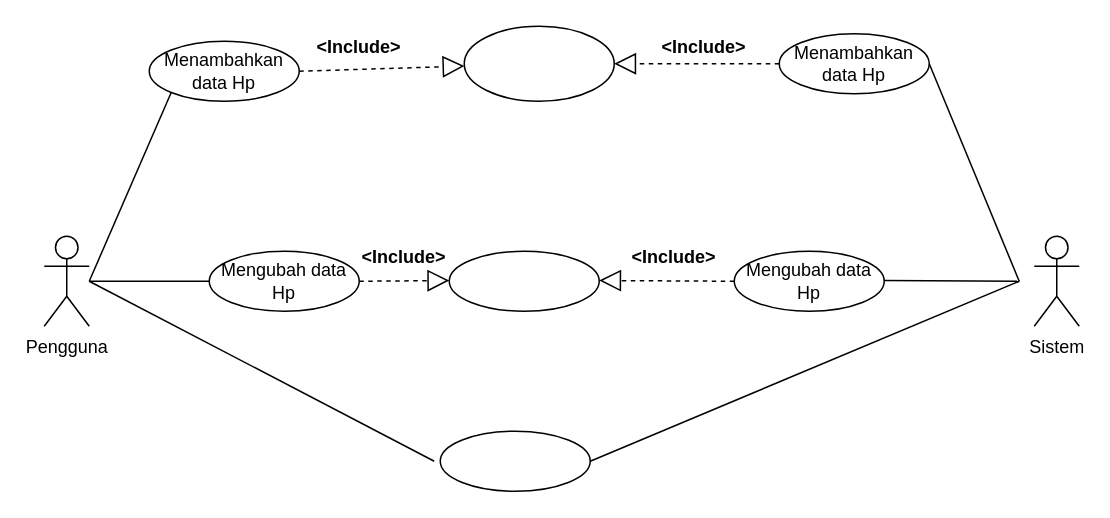
Image size: 1110x518. Some labels were removed from this diagram. The centre of each missing label's shape, as x and y in pixels:
"Mengahapus data Hp" belongs at point (514, 460).
"Mengisi nama merek, tipe, dan tahun" belongs at point (538, 63).
"Mengisi nama, merek" belongs at point (523, 280).
